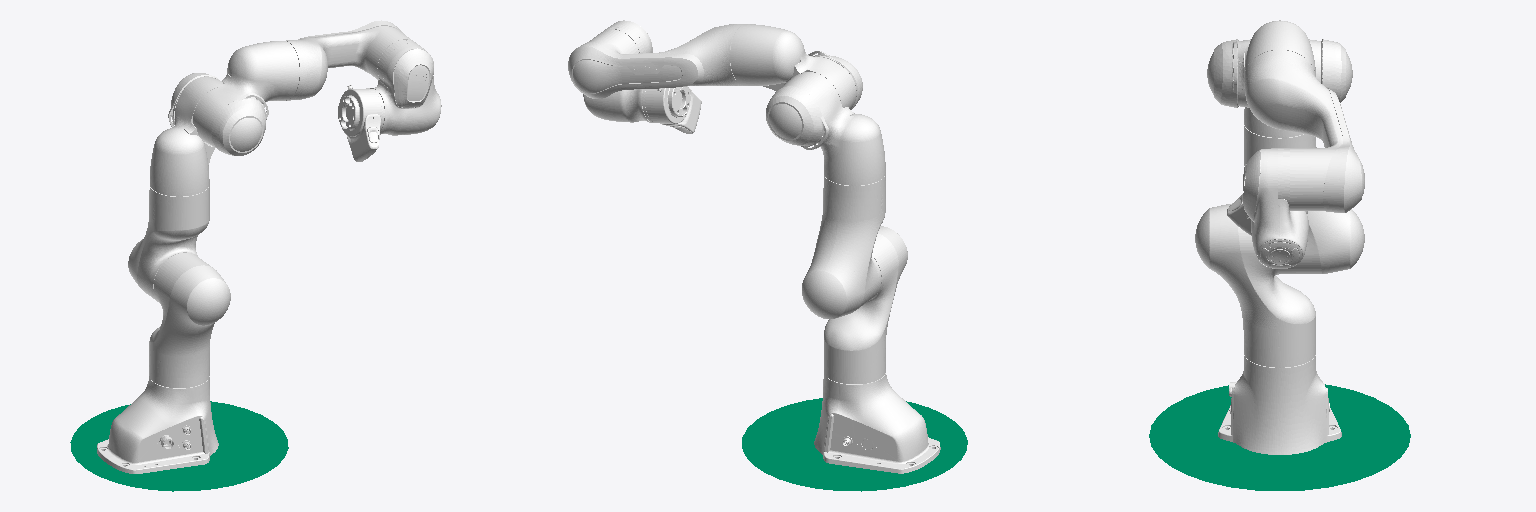
URDF robot description (panda):
<?xml version="1.0" encoding="utf-8"?>
<robot name="panda">
  <!--
  ===============================================================
  NOTE: This file does not contain official inertial properties
  of panda robot. The values are from the identification results published in:
    [author], [author], [author], [author], and
    [author], "Dynamic Identification of the Franka Emika Panda Robot
    With Retrieval of Feasible Parameters Using Penalty-Based Optimization".
    IEEE Robot. Autom. Lett., vol. 4, no. 4, pp. 4147–4154, Oct. 2019,
    doi: 10.1109/LRA.2019.2931248.
    https://hal.inria.fr/hal-02265293/document
  ===============================================================
  -->
  <link name="world"/>
  <joint name="panda_joint_panda_mount" type="fixed">
    <parent link="panda_mount"/>
    <child link="panda_link0"/>
    <origin rpy="0 0 0" xyz="0 0 0"/>
  </joint>
  <link name="panda_link0">
    <inertial>
      <origin rpy="0 0 0" xyz="-0.0410181918537986 -0.000143266349590146 0.0499742749991159"/>
      <mass value="0.629769273993887"/>
      <inertia ixx="0.0031531502307724" ixy="8.29043977620386E-07" ixz="0.000153878135879635" iyy="0.00388160500528917" iyz="8.22996985150111E-06" izz="0.00428506837339653"/>
    </inertial>
    <visual>
      <origin rpy="0 0 0" xyz="0 0 0"/>
      <geometry>
        <mesh filename="package://franka_description/meshes/visual/link0.dae"/>
      </geometry>
      <material name="">
        <color rgba="1 1 1 1"/>
      </material>
    </visual>
    <collision>
      <origin rpy="0 0 0" xyz="0 0 0"/>
      <geometry>
        <mesh filename="package://franka_description/meshes/collision/link0.stl"/>
      </geometry>
    </collision>
  </link>
  <link name="panda_link1">
    <inertial>
      <origin rpy="0 0 0" xyz="0.003875 0.002081 -0.04762"/>
      <mass value="4.970684"/>
      <inertia ixx="0.70337" ixy="-0.00013900" ixz="0.0067720" iyy="0.70661" iyz="0.019169" izz="0.0091170"/>
    </inertial>
    <visual>
      <origin rpy="0 0 0" xyz="0 0 0"/>
      <geometry>
        <mesh filename="package://franka_description/meshes/visual/link1.dae"/>
      </geometry>
      <material name="">
        <color rgba="1 1 1 1"/>
      </material>
    </visual>
    <collision>
      <origin rpy="0 0 0" xyz="0 0 0"/>
      <geometry>
        <mesh filename="package://franka_description/meshes/collision/link1.stl"/>
      </geometry>
    </collision>
  </link>
  <joint name="panda_joint1" type="revolute">
    <safety_controller k_position="100.0" k_velocity="40.0" soft_lower_limit="-2.8973" soft_upper_limit="2.8973"/>
    <origin rpy="0 0 0" xyz="0 0 0.333"/>
    <parent link="panda_link0"/>
    <child link="panda_link1"/>
    <axis xyz="0 0 1"/>
    <limit acceleration="15" effort="87" lower="-2.9671" upper="2.9671" velocity="2.5"/>
    <dynamics D="1" K="7000" damping="0.003" friction="0.06" mu_coulomb="0" mu_viscous="16"/>
  </joint>
  <link name="panda_link2">
    <inertial>
      <origin rpy="0 0 0" xyz=" -0.003141 -0.02872  0.003495"/>
      <mass value="0.646926"/>
      <inertia ixx="0.0079620" ixy="-3.9250e-3" ixz="1.0254e-02" iyy="2.8110e-02" iyz="7.0400e-04" izz="2.5995e-02"/>
    </inertial>
    <visual>
      <origin rpy="0 0 0" xyz="0 0 0"/>
      <geometry>
        <mesh filename="package://franka_description/meshes/visual/link2.dae"/>
      </geometry>
      <material name="">
        <color rgba="1 1 1 1"/>
      </material>
    </visual>
    <collision>
      <origin rpy="0 0 0" xyz="0 0 0"/>
      <geometry>
        <mesh filename="package://franka_description/meshes/collision/link2.stl"/>
      </geometry>
    </collision>
  </link>
  <joint name="panda_joint2" type="revolute">
    <safety_controller k_position="100.0" k_velocity="40.0" soft_lower_limit="-1.7628" soft_upper_limit="1.7628"/>
    <origin rpy="-1.57079632679 0 0" xyz="0 0 0"/>
    <parent link="panda_link1"/>
    <child link="panda_link2"/>
    <axis xyz="0 0 1"/>
    <limit acceleration="7.5" effort="87" lower="-1.8326" upper="1.8326" velocity="2.5"/>
    <dynamics D="1" K="7000" damping="0.003" friction="0.06" mu_coulomb="0" mu_viscous="16"/>
  </joint>
  <link name="panda_link3">
    <inertial>
      <origin rpy="0 0 0" xyz="2.7518e-02 3.9252e-02 -6.6502e-02"/>
      <mass value="3.228604"/>
      <inertia ixx="3.7242e-02" ixy="-4.7610e-03" ixz="-1.1396e-02" iyy="3.6155e-02" iyz="-1.2805e-02" izz="1.0830e-02"/>
    </inertial>
    <visual>
      <origin rpy="0 0 0" xyz="0 0 0"/>
      <geometry>
        <mesh filename="package://franka_description/meshes/visual/link3.dae"/>
      </geometry>
      <material name="">
        <color rgba="1 1 1 1"/>
      </material>
    </visual>
    <collision>
      <origin rpy="0 0 0" xyz="0 0 0"/>
      <geometry>
        <mesh filename="package://franka_description/meshes/collision/link3.stl"/>
      </geometry>
    </collision>
  </link>
  <joint name="panda_joint3" type="revolute">
    <safety_controller k_position="100.0" k_velocity="40.0" soft_lower_limit="-2.8973" soft_upper_limit="2.8973"/>
    <origin rpy="1.57079632679 0 0" xyz="0 -0.316 0"/>
    <parent link="panda_link2"/>
    <child link="panda_link3"/>
    <axis xyz="0 0 1"/>
    <limit acceleration="12.5" effort="87" lower="-2.9671" upper="2.9671" velocity="2.5"/>
    <dynamics D="1" K="7000" damping="0.003" friction="0.06" mu_coulomb="0" mu_viscous="16"/>
  </joint>
  <link name="panda_link4">
    <inertial>
      <origin rpy="0 0 0" xyz="-5.317e-02 1.04419e-01 2.7454e-02"/>
      <mass value="3.587895"/>
      <inertia ixx="2.5853e-02" ixy="7.7960e-03" ixz="-1.3320e-03" iyy="1.9552e-02" iyz="8.6410e-03" izz="2.8323e-02"/>
    </inertial>
    <visual>
      <origin rpy="0 0 0" xyz="0 0 0"/>
      <geometry>
        <mesh filename="package://franka_description/meshes/visual/link4.dae"/>
      </geometry>
      <material name="">
        <color rgba="1 1 1 1"/>
      </material>
    </visual>
    <collision>
      <origin rpy="0 0 0" xyz="0 0 0"/>
      <geometry>
        <mesh filename="package://franka_description/meshes/collision/link4.stl"/>
      </geometry>
    </collision>
  </link>
  <joint name="panda_joint4" type="revolute">
    <safety_controller k_position="100.0" k_velocity="40.0" soft_lower_limit="-3.0718" soft_upper_limit="-0.0698"/>
    <origin rpy="1.57079632679 0 0" xyz="0.0825 0 0"/>
    <parent link="panda_link3"/>
    <child link="panda_link4"/>
    <axis xyz="0 0 1"/>
    <limit acceleration="12.5" effort="87" lower="-3.1416" upper="-0.4" velocity="2.5"/>
    <dynamics D="1" K="7000" damping="0.003" friction="0.06" mu_coulomb="0" mu_viscous="16"/>
  </joint>
  <link name="panda_link5">
    <inertial>
      <origin rpy="0 0 0" xyz="-1.1953e-02 4.1065e-02 -3.8437e-02"/>
      <mass value="1.225946"/>
      <inertia ixx="3.5549e-02" ixy="-2.1170e-03" ixz="-4.0370e-03" iyy="2.9474e-02" iyz="2.2900e-04" izz="8.6270e-03"/>
    </inertial>
    <visual>
      <origin rpy="0 0 0" xyz="0 0 0"/>
      <geometry>
        <mesh filename="package://franka_description/meshes/visual/link5.dae"/>
      </geometry>
      <material name="">
        <color rgba="1 1 1 1"/>
      </material>
    </visual>
    <collision>
      <origin rpy="0 0 0" xyz="0 0 0"/>
      <geometry>
        <mesh filename="package://franka_description/meshes/collision/link5.stl"/>
      </geometry>
    </collision>
  </link>
  <joint name="panda_joint5" type="revolute">
    <safety_controller k_position="100.0" k_velocity="40.0" soft_lower_limit="-2.8973" soft_upper_limit="2.8973"/>
    <origin rpy="-1.57079632679 0 0" xyz="-0.0825 0.384 0"/>
    <parent link="panda_link4"/>
    <child link="panda_link5"/>
    <axis xyz="0 0 1"/>
    <limit acceleration="15" effort="12" lower="-2.9671" upper="2.9671" velocity="3"/>
    <dynamics D="1" K="7000" damping="0.003" friction="0.06" mu_coulomb="0" mu_viscous="16"/>
  </joint>
  <link name="panda_link6">
    <inertial>
      <origin rpy="0 0 0" xyz="6.0149e-02 -1.4117e-02 -1.0517e-02"/>
      <mass value="1.666555"/>
      <inertia ixx="1.9640e-03" ixy="1.0900e-04" ixz="-1.1580e-03" iyy="4.3540e-03" iyz="3.4100e-04" izz="5.4330e-03"/>
    </inertial>
    <visual>
      <origin rpy="0 0 0" xyz="0 0 0"/>
      <geometry>
        <mesh filename="package://franka_description/meshes/visual/link6.dae"/>
      </geometry>
      <material name="">
        <color rgba="1 1 1 1"/>
      </material>
    </visual>
    <collision>
      <origin rpy="0 0 0" xyz="0 0 0"/>
      <geometry>
        <mesh filename="package://franka_description/meshes/collision/link6.stl"/>
      </geometry>
    </collision>
  </link>
  <joint name="panda_joint6" type="revolute">
    <safety_controller k_position="100.0" k_velocity="40.0" soft_lower_limit="-0.0175" soft_upper_limit="3.7525"/>
    <origin rpy="1.57079632679 0 0" xyz="0 0 0"/>
    <parent link="panda_link5"/>
    <child link="panda_link6"/>
    <axis xyz="0 0 1"/>
    <limit acceleration="20" effort="12" lower="-0.0873" upper="3.8223" velocity="3"/>
    <dynamics D="1" K="7000" damping="0.003" friction="0.06" mu_coulomb="0" mu_viscous="16"/>
  </joint>
  <link name="panda_link7">
    <inertial>
      <origin rpy="0 0 0" xyz="1.0517e-02 -4.252e-03 6.1597e-02"/>
      <mass value="7.35522e-01"/>
      <inertia ixx="1.2516e-02" ixy="-4.2800e-04" ixz="-1.1960e-03" iyy="1.0027e-02" iyz="-7.4100e-04" izz="4.8150e-03"/>
    </inertial>
    <visual>
      <origin rpy="0 0 0" xyz="0 0 0"/>
      <geometry>
        <mesh filename="package://franka_description/meshes/visual/link7.dae"/>
      </geometry>
      <material name="">
        <color rgba="1 1 1 1"/>
      </material>
    </visual>
    <collision>
      <origin rpy="0 0 0" xyz="0 0 0"/>
      <geometry>
        <mesh filename="package://franka_description/meshes/collision/link7.stl"/>
      </geometry>
    </collision>
  </link>
  <joint name="panda_joint7" type="revolute">
    <safety_controller k_position="100.0" k_velocity="40.0" soft_lower_limit="-2.8973" soft_upper_limit="2.8973"/>
    <origin rpy="1.57079632679 0 0" xyz="0.088 0 0"/>
    <parent link="panda_link6"/>
    <child link="panda_link7"/>
    <axis xyz="0 0 1"/>
    <limit acceleration="20" effort="12" lower="-2.9671" upper="2.9671" velocity="3"/>
    <dynamics D="1" K="7000" damping="0.003" friction="0.06" mu_coulomb="0" mu_viscous="16"/>
  </joint>
  <link name="panda_link8">
    <inertial>
      <mass value="1e-10"/>
      <inertia ixx="1e-10" ixy="0.0" ixz="0.0" iyy="1e-10" iyz="0.0" izz="1e-10"/>
    </inertial>
  </link>
  <joint name="panda_joint8" type="fixed">
    <origin rpy="0 0 0" xyz="0 0 0.107"/>
    <parent link="panda_link7"/>
    <child link="panda_link8"/>
    <axis xyz="0 0 0"/>
  </joint>
  <gazebo reference="panda_joint1">
    <implicitSpringDamper>true</implicitSpringDamper>
    <provideFeedback>true</provideFeedback>
  </gazebo>
  <gazebo reference="panda_joint2">
    <implicitSpringDamper>true</implicitSpringDamper>
    <provideFeedback>true</provideFeedback>
  </gazebo>
  <gazebo reference="panda_joint3">
    <implicitSpringDamper>true</implicitSpringDamper>
    <provideFeedback>true</provideFeedback>
  </gazebo>
  <gazebo reference="panda_joint4">
    <implicitSpringDamper>true</implicitSpringDamper>
    <provideFeedback>true</provideFeedback>
  </gazebo>
  <gazebo reference="panda_joint5">
    <implicitSpringDamper>true</implicitSpringDamper>
    <provideFeedback>true</provideFeedback>
  </gazebo>
  <gazebo reference="panda_joint6">
    <implicitSpringDamper>true</implicitSpringDamper>
    <provideFeedback>true</provideFeedback>
  </gazebo>
  <gazebo reference="panda_joint7">
    <implicitSpringDamper>true</implicitSpringDamper>
    <provideFeedback>true</provideFeedback>
  </gazebo>
  <gazebo reference="panda_link1">
    <dampingFactor>0.01</dampingFactor>
  </gazebo>
  <gazebo reference="panda_link2">
    <dampingFactor>0.01</dampingFactor>
  </gazebo>
  <gazebo reference="panda_link3">
    <dampingFactor>0.01</dampingFactor>
  </gazebo>
  <gazebo reference="panda_link4">
    <dampingFactor>0.01</dampingFactor>
  </gazebo>
  <gazebo reference="panda_link5">
    <dampingFactor>0.01</dampingFactor>
  </gazebo>
  <gazebo reference="panda_link6">
    <dampingFactor>0.01</dampingFactor>
  </gazebo>
  <gazebo reference="panda_link7">
    <dampingFactor>0.01</dampingFactor>
  </gazebo>
  <transmission name="panda_joint1_transmission">
    <type>transmission_interface/SimpleTransmission</type>
    <joint name="panda_joint1">
      <hardwareInterface>hardware_interface/EffortJointInterface</hardwareInterface>
    </joint>
    <actuator name="panda_joint1_motor">
      <hardwareInterface>hardware_interface/EffortJointInterface</hardwareInterface>
    </actuator>
  </transmission>
  <transmission name="panda_joint2_transmission">
    <type>transmission_interface/SimpleTransmission</type>
    <joint name="panda_joint2">
      <hardwareInterface>hardware_interface/EffortJointInterface</hardwareInterface>
    </joint>
    <actuator name="panda_joint2_motor">
      <hardwareInterface>hardware_interface/EffortJointInterface</hardwareInterface>
    </actuator>
  </transmission>
  <transmission name="panda_joint3_transmission">
    <type>transmission_interface/SimpleTransmission</type>
    <joint name="panda_joint3">
      <hardwareInterface>hardware_interface/EffortJointInterface</hardwareInterface>
    </joint>
    <actuator name="panda_joint3_motor">
      <hardwareInterface>hardware_interface/EffortJointInterface</hardwareInterface>
    </actuator>
  </transmission>
  <transmission name="panda_joint4_transmission">
    <type>transmission_interface/SimpleTransmission</type>
    <joint name="panda_joint4">
      <hardwareInterface>hardware_interface/EffortJointInterface</hardwareInterface>
    </joint>
    <actuator name="panda_joint4_motor">
      <hardwareInterface>hardware_interface/EffortJointInterface</hardwareInterface>
    </actuator>
  </transmission>
  <transmission name="panda_joint5_transmission">
    <type>transmission_interface/SimpleTransmission</type>
    <joint name="panda_joint5">
      <hardwareInterface>hardware_interface/EffortJointInterface</hardwareInterface>
    </joint>
    <actuator name="panda_joint5_motor">
      <hardwareInterface>hardware_interface/EffortJointInterface</hardwareInterface>
    </actuator>
  </transmission>
  <transmission name="panda_joint6_transmission">
    <type>transmission_interface/SimpleTransmission</type>
    <joint name="panda_joint6">
      <hardwareInterface>hardware_interface/EffortJointInterface</hardwareInterface>
    </joint>
    <actuator name="panda_joint6_motor">
      <hardwareInterface>hardware_interface/EffortJointInterface</hardwareInterface>
    </actuator>
  </transmission>
  <transmission name="panda_joint7_transmission">
    <type>transmission_interface/SimpleTransmission</type>
    <joint name="panda_joint7">
      <hardwareInterface>hardware_interface/EffortJointInterface</hardwareInterface>
    </joint>
    <actuator name="panda_joint7_motor">
      <hardwareInterface>hardware_interface/EffortJointInterface</hardwareInterface>
    </actuator>
  </transmission>
  <transmission name="panda_franka_state">
    <type>franka_hw/FrankaStateInterface</type>
    <joint name="panda_joint1">
      <hardwareInterface>franka_hw/FrankaStateInterface</hardwareInterface>
    </joint>
    <joint name="panda_joint2">
      <hardwareInterface>franka_hw/FrankaStateInterface</hardwareInterface>
    </joint>
    <joint name="panda_joint3">
      <hardwareInterface>franka_hw/FrankaStateInterface</hardwareInterface>
    </joint>
    <joint name="panda_joint4">
      <hardwareInterface>franka_hw/FrankaStateInterface</hardwareInterface>
    </joint>
    <joint name="panda_joint5">
      <hardwareInterface>franka_hw/FrankaStateInterface</hardwareInterface>
    </joint>
    <joint name="panda_joint6">
      <hardwareInterface>franka_hw/FrankaStateInterface</hardwareInterface>
    </joint>
    <joint name="panda_joint7">
      <hardwareInterface>franka_hw/FrankaStateInterface</hardwareInterface>
    </joint>
    <actuator name="panda_motor1">
      <hardwareInterface>franka_hw/FrankaStateInterface</hardwareInterface>
    </actuator>
    <actuator name="panda_motor2">
      <hardwareInterface>franka_hw/FrankaStateInterface</hardwareInterface>
    </actuator>
    <actuator name="panda_motor3">
      <hardwareInterface>franka_hw/FrankaStateInterface</hardwareInterface>
    </actuator>
    <actuator name="panda_motor4">
      <hardwareInterface>franka_hw/FrankaStateInterface</hardwareInterface>
    </actuator>
    <actuator name="panda_motor5">
      <hardwareInterface>franka_hw/FrankaStateInterface</hardwareInterface>
    </actuator>
    <actuator name="panda_motor6">
      <hardwareInterface>franka_hw/FrankaStateInterface</hardwareInterface>
    </actuator>
    <actuator name="panda_motor7">
      <hardwareInterface>franka_hw/FrankaStateInterface</hardwareInterface>
    </actuator>
  </transmission>
  <transmission name="panda_franka_model">
    <type>franka_hw/FrankaModelInterface</type>
    <joint name="panda_joint1">
      <role>root</role>
      <hardwareInterface>franka_hw/FrankaModelInterface</hardwareInterface>
    </joint>
    <joint name="panda_joint8">
      <role>tip</role>
      <hardwareInterface>franka_hw/FrankaModelInterface</hardwareInterface>
    </joint>
    <actuator name="panda_joint1_motor_root">
      <hardwareInterface>franka_hw/FrankaModelInterface</hardwareInterface>
    </actuator>
    <actuator name="panda_joint8_motor_tip">
      <hardwareInterface>franka_hw/FrankaModelInterface</hardwareInterface>
    </actuator>
  </transmission>
  <link name="panda_mount">
    <visual>
      <origin xyz="0 0 0.0"/>
      <geometry>
        <cylinder length="0" radius="0.2"/>
      </geometry>
    </visual>
    <collision>
      <origin xyz="0 0 0.0"/>
      <geometry>
        <cylinder length="0" radius="0.2"/>
      </geometry>
    </collision>
  </link>
  <joint name="panda_mount_joint" type="fixed">
    <origin rpy="0 0 0" xyz="0 0 0"/>
    <parent link="world"/>
    <child link="panda_mount"/>
  </joint>
  <gazebo>
    <plugin filename="libgazebo_ros_control.so" name="gazebo_ros_control">
      <robotNamespace>panda</robotNamespace>
      <robotSimType>franka_gazebo/FrankaHWSim</robotSimType>
    </plugin>
  </gazebo>
</robot>

--- Render facts (derived) ---
3 views of the same robot in one strip: view 1: azimuth 30°, elevation 25°; view 2: azimuth 150°, elevation 25°; view 3: azimuth 270°, elevation 25° (orthographic).
Model panda with 11 links and 10 joints (7 revolute, 3 fixed), rooted at world, posed all joints at 0 but 1 set to mid-range because 0 is outside their limits (panda_joint4 = -1.77).
Links seen in each view (by area): view 1: panda_mount, panda_link0, panda_link1, panda_link4, panda_link3, panda_link6, panda_link2, panda_link5, panda_link7; view 2: panda_mount, panda_link0, panda_link2, panda_link5, panda_link3, panda_link1, panda_link4, panda_link6, panda_link7; view 3: panda_mount, panda_link5, panda_link1, panda_link0, panda_link6, panda_link2, panda_link4, panda_link3.
Boxes of the visible links, bbox=[...] form: panda_mount: bbox=[70, 401, 288, 491]; panda_link0: bbox=[97, 376, 218, 473]; panda_link1: bbox=[149, 253, 230, 387]; panda_link4: bbox=[193, 41, 299, 155]; panda_link3: bbox=[150, 73, 224, 196]; panda_link6: bbox=[370, 40, 441, 135]; panda_link2: bbox=[128, 185, 209, 301]; panda_link5: bbox=[286, 20, 412, 100]; panda_link7: bbox=[338, 85, 384, 161]; panda_mount: bbox=[742, 398, 967, 491]; panda_link0: bbox=[814, 373, 940, 473]; panda_link2: bbox=[802, 175, 885, 318]; panda_link5: bbox=[568, 24, 743, 98]; panda_link3: bbox=[766, 72, 885, 185]; panda_link1: bbox=[824, 226, 907, 383]; panda_link4: bbox=[730, 24, 862, 109]; panda_link6: bbox=[583, 20, 652, 122]; panda_link7: bbox=[642, 86, 701, 133]; panda_mount: bbox=[1149, 384, 1410, 490]; panda_link5: bbox=[1244, 50, 1364, 212]; panda_link1: bbox=[1195, 203, 1315, 367]; panda_link0: bbox=[1218, 355, 1341, 454]; panda_link6: bbox=[1243, 148, 1308, 268]; panda_link2: bbox=[1244, 125, 1364, 273]; panda_link4: bbox=[1207, 20, 1315, 107]; panda_link3: bbox=[1244, 39, 1352, 137].
Size in the robot's own frame: 0.7432 by 0.4 by 0.7667 metres.
Meshes: 8 distinct files referenced, 8 mesh visuals loaded (8 Collada DAE).
